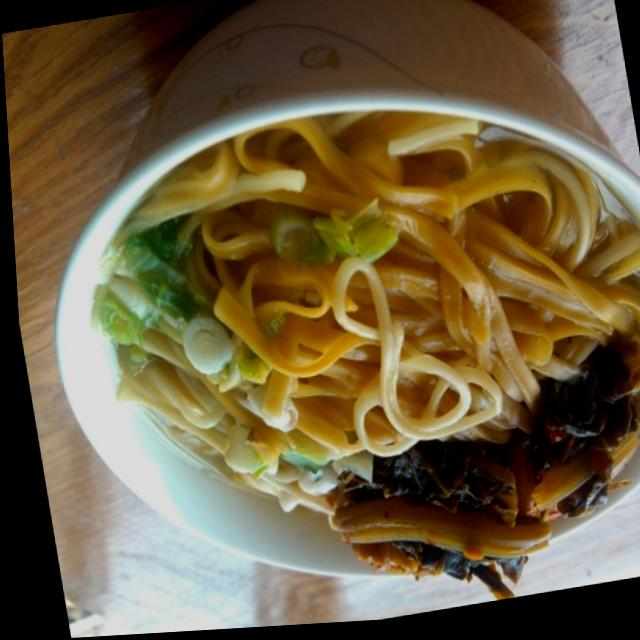面条主食: (24, 24, 640, 639)
